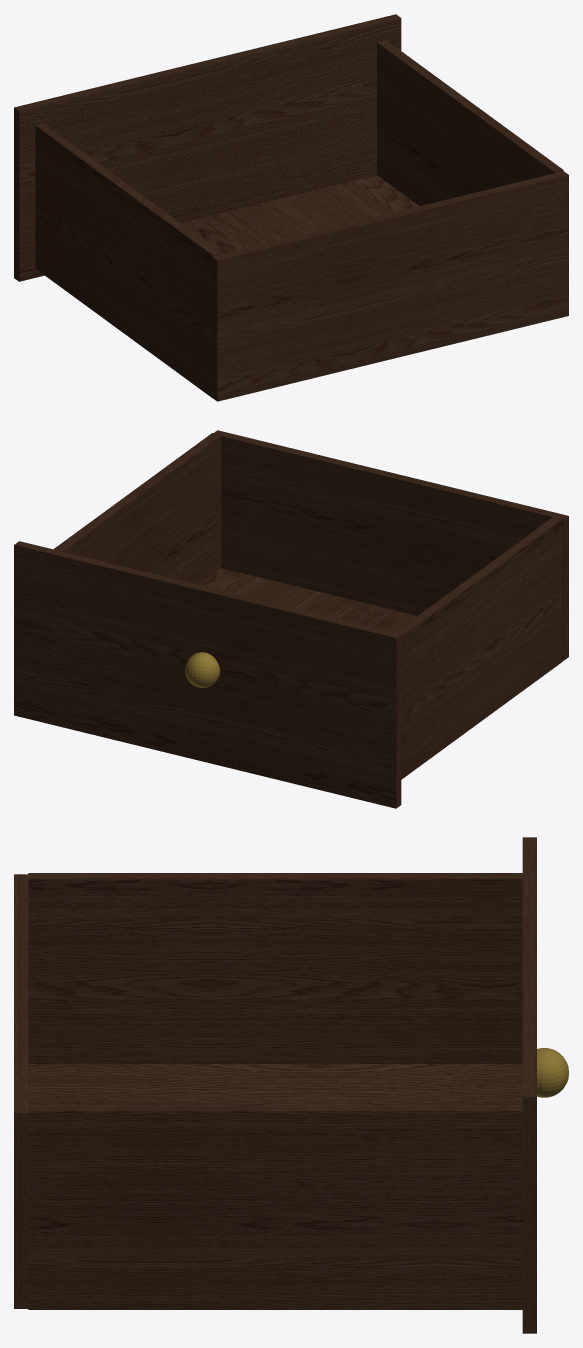
The model's file is cajonTri.obj.
3 views of the same model, one above another, from view 1: azimuth 30°, elevation 25°; view 2: azimuth 150°, elevation 25°; view 3: azimuth 270°, elevation 25° (orthographic). The views are drawn at different scales.
Parts seen in each view (by area): view 1: Esfera_Esfera.001; view 2: Esfera_Esfera.001; view 3: Esfera_Esfera.001.
Part boxes in pixels (left/top/right/bottom): Esfera_Esfera.001: left=14, top=14, right=568, bottom=401; Esfera_Esfera.001: left=14, top=430, right=568, bottom=808; Esfera_Esfera.001: left=14, top=837, right=568, bottom=1333.
Bounding box in the file's own units: 0.4729 × 0.2017 × 0.4278.
6 materials, 6 textured.
